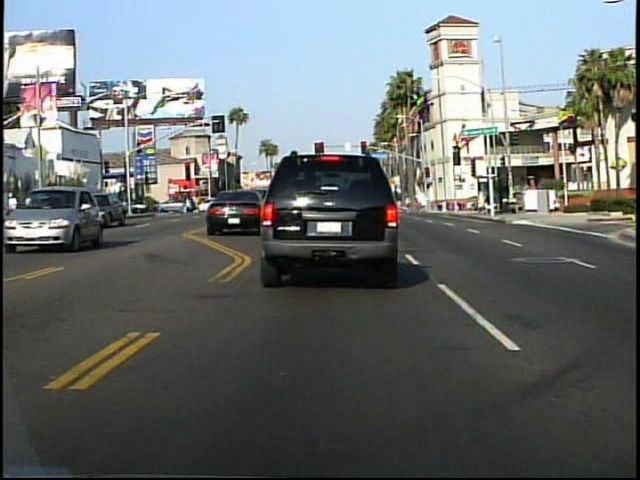person: (179, 186, 190, 219)
